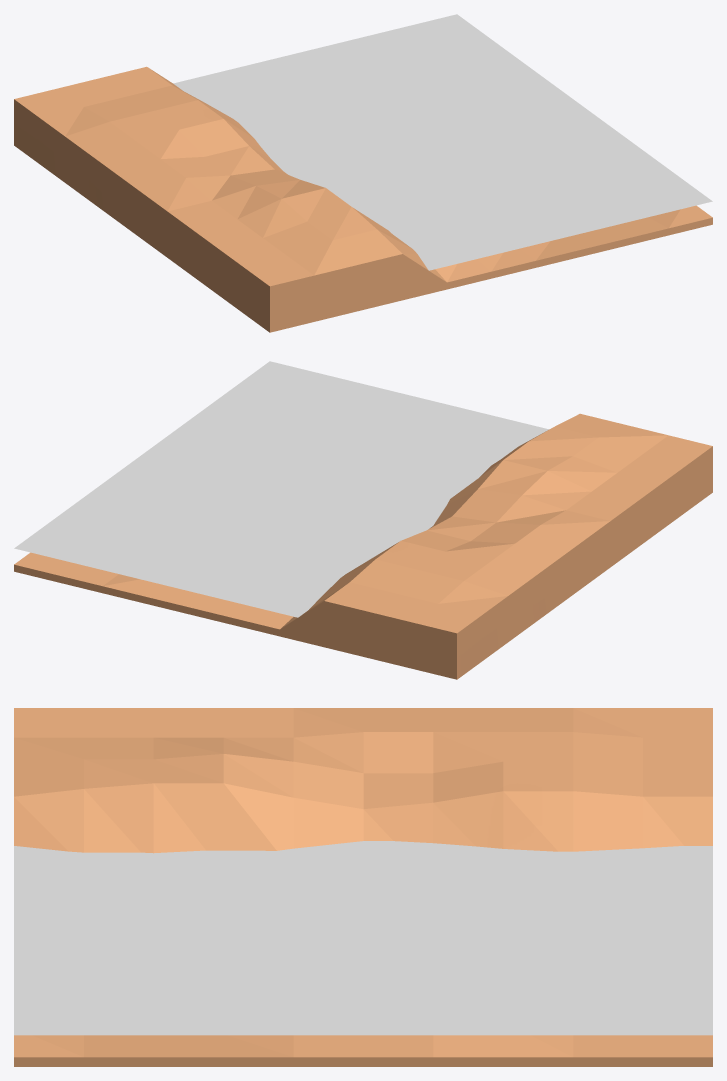
File: waterWall.fbx
The picture shows the model from 3 angles, top to bottom: view 1: azimuth 30°, elevation 25°; view 2: azimuth 150°, elevation 25°; view 3: azimuth 270°, elevation 25°; orthographic projection. The views are drawn at different scales.
Parts seen in each view (by area): view 1: Plane_1, Cube_1; view 2: Plane_1, Cube_1; view 3: Plane_1, Cube_1.
Part boxes in pixels (x1=…): Plane_1: x1=173, y1=14, x2=712, y2=270; Cube_1: x1=14, y1=66, x2=712, y2=332; Plane_1: x1=14, y1=361, x2=548, y2=617; Cube_1: x1=14, y1=413, x2=712, y2=679; Plane_1: x1=14, y1=841, x2=712, y2=1035; Cube_1: x1=14, y1=708, x2=712, y2=1066.
Bounding box in the file's own units: 100 × 12.11 × 100.
1 material, 1 textured.
